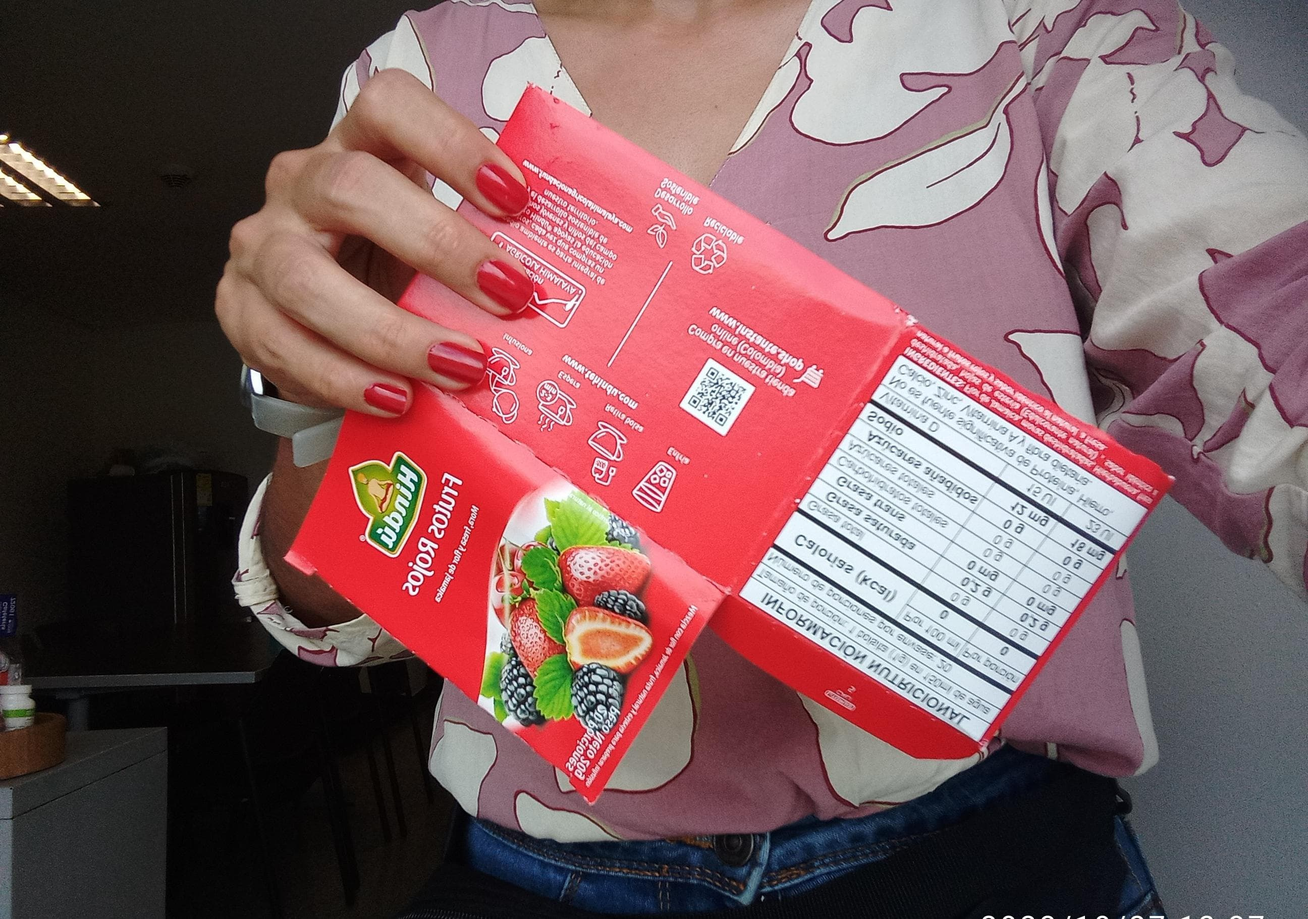Carton: (285, 90, 1173, 802)
